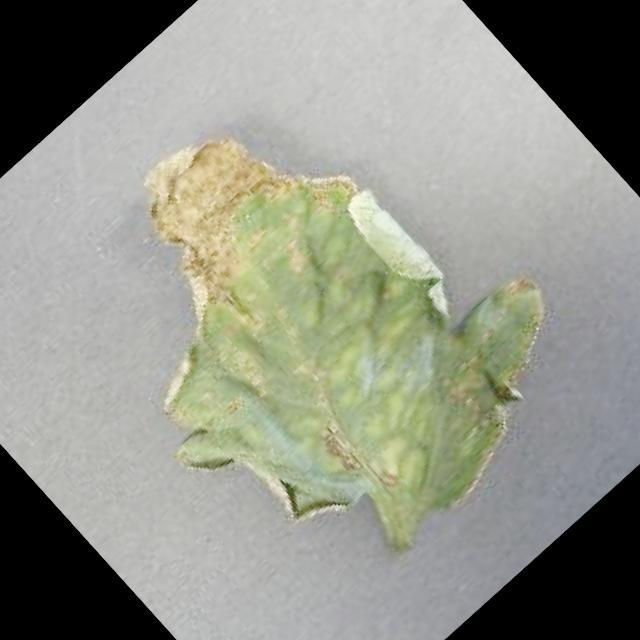Tomato bacterial spot leaf: (19, 26, 617, 630)
